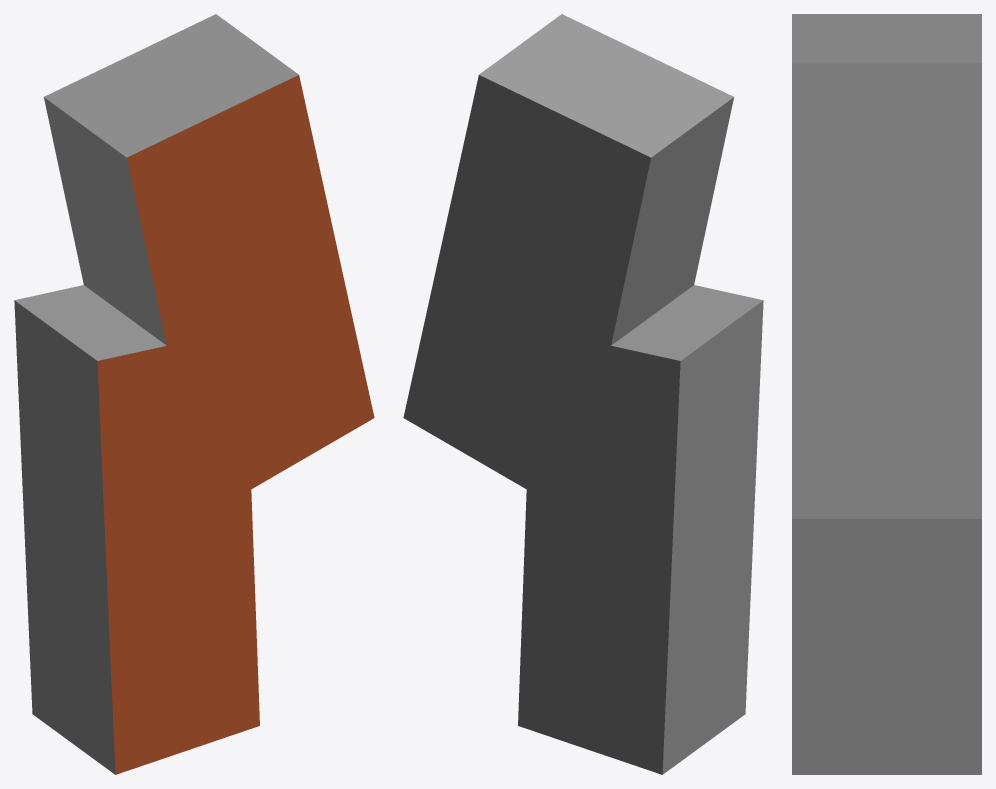
The model's file is construction_4899_assumed_A_Casa_h6m.obj.
3 views of the same model, side by side, from view 1: azimuth 30°, elevation 25°; view 2: azimuth 150°, elevation 25°; view 3: azimuth 270°, elevation 25° (orthographic). The views are drawn at different scales.
Parts seen in each view (by area): view 1: construction_4899_assumed_A_Casa; view 2: construction_4899_assumed_A_Casa; view 3: construction_4899_assumed_A_Casa.
Boxes of the visible parts, left/top/right/bottom form: construction_4899_assumed_A_Casa: left=14, top=14, right=374, bottom=774; construction_4899_assumed_A_Casa: left=403, top=14, right=763, bottom=774; construction_4899_assumed_A_Casa: left=792, top=14, right=981, bottom=774.
Size of the model in its own units: 11.56 by 26.13 by 6.
